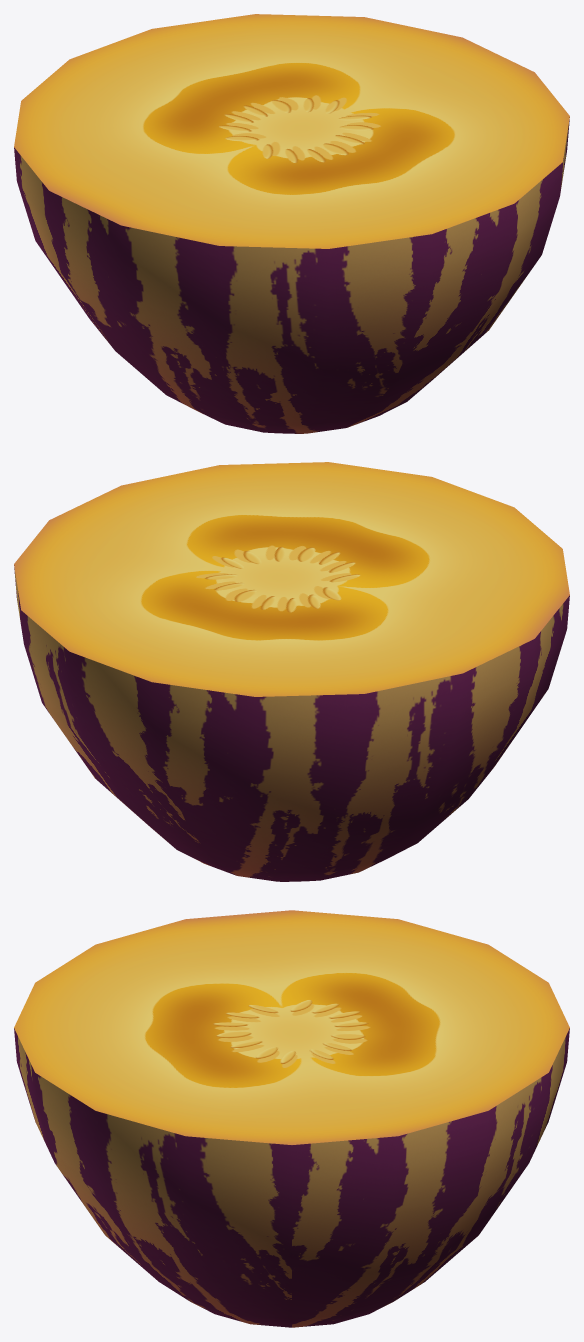
File: Pepino_Half_02.fbx
3 renders of one model, top to bottom at view 1: azimuth 30°, elevation 25°; view 2: azimuth 150°, elevation 25°; view 3: azimuth 270°, elevation 25°, orthographic.
Parts seen in each view (by area): view 1: Pepino_Half_02; view 2: Pepino_Half_02; view 3: Pepino_Half_02.
Boxes of the visible parts, x1,y1,x2,y2 form: Pepino_Half_02: (14,14,569,433); Pepino_Half_02: (14,462,569,881); Pepino_Half_02: (14,910,569,1327).
Bounding box in the file's own units: 34.78 × 19.7 × 34.78.
